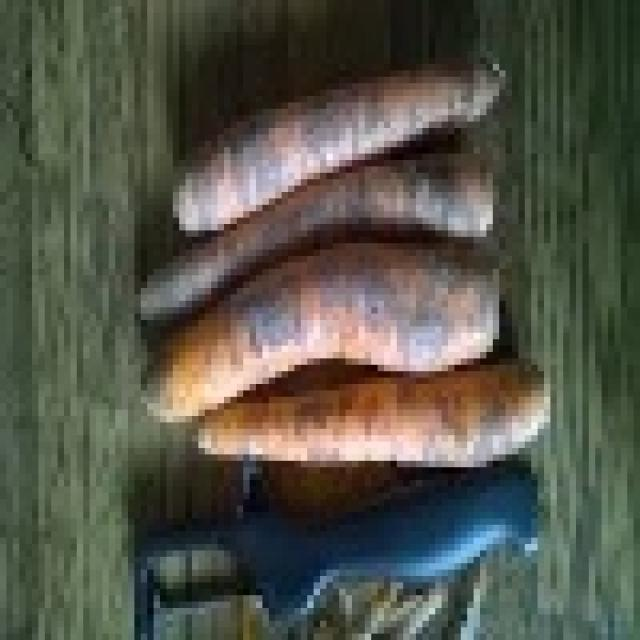Stale_Carrot: (142, 254, 518, 440), (121, 60, 513, 235), (139, 149, 494, 337), (187, 373, 565, 457)
